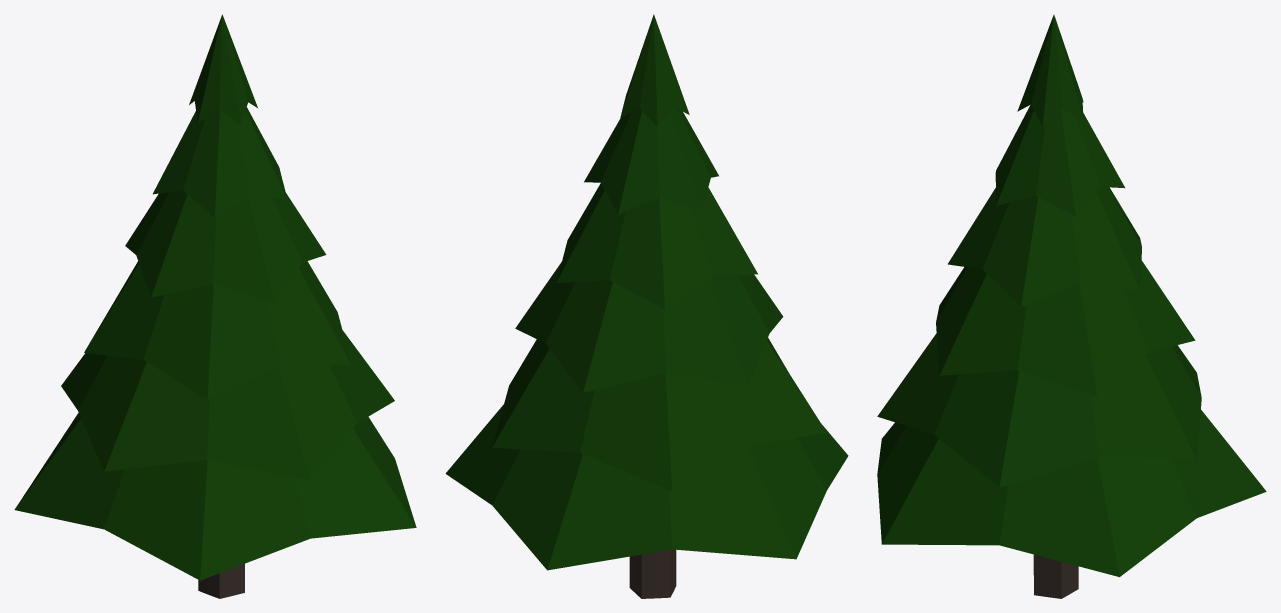
The model's file is Pine_Tree_1_Summer.fbx.
3 views of the same model, side by side, from view 1: azimuth 30°, elevation 25°; view 2: azimuth 150°, elevation 25°; view 3: azimuth 270°, elevation 25° (orthographic).
Parts seen in each view (by area): view 1: Pine_Tree_1_Summer; view 2: Pine_Tree_1_Summer; view 3: Pine_Tree_1_Summer.
Part boxes in pixels (x1,y1,x2,y2): Pine_Tree_1_Summer: (14,14,416,598); Pine_Tree_1_Summer: (445,14,848,598); Pine_Tree_1_Summer: (877,14,1266,598).
Bounding box in the file's own units: 392 × 614 × 377.
